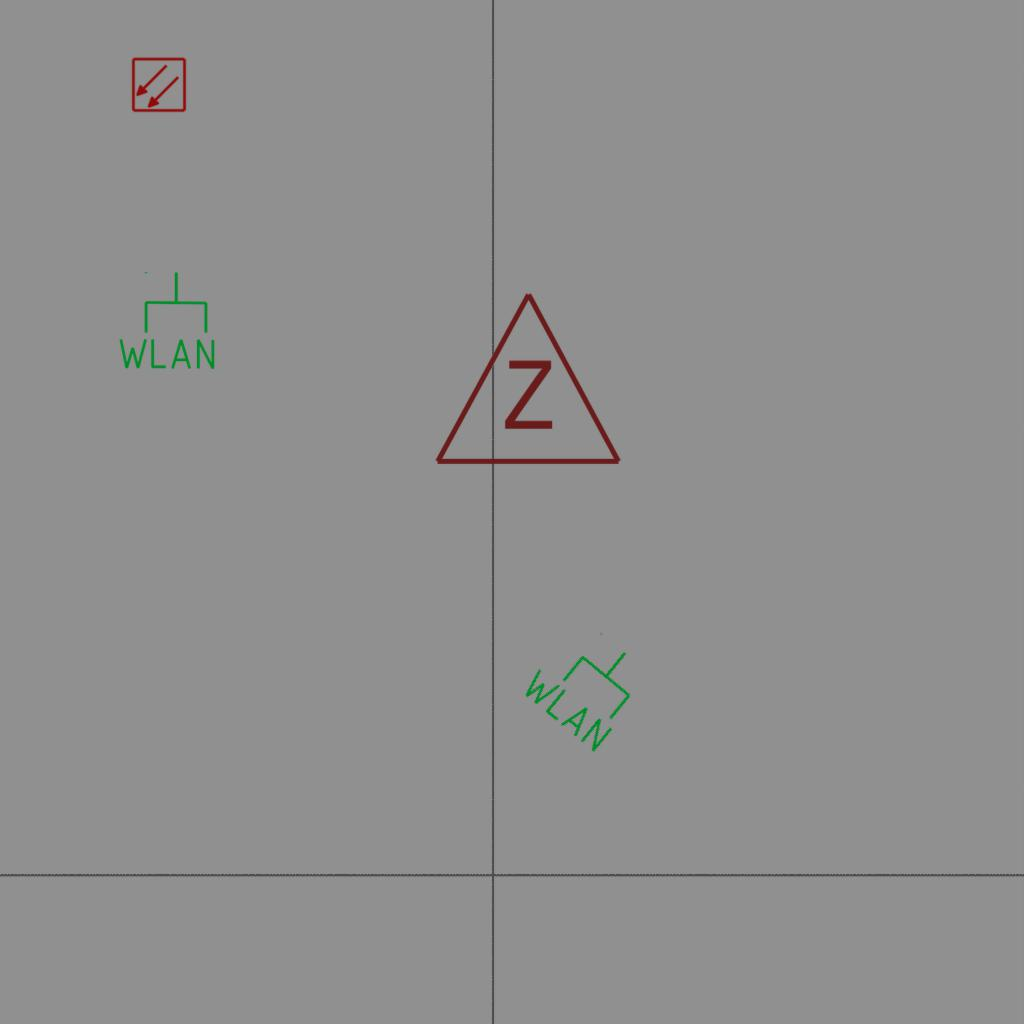RMO_Rauchmelder_optischer: (131, 57, 187, 113)
WLAN: (513, 611, 661, 758), (114, 269, 219, 373)
Zimmersignalleuchte: (428, 279, 624, 479)
